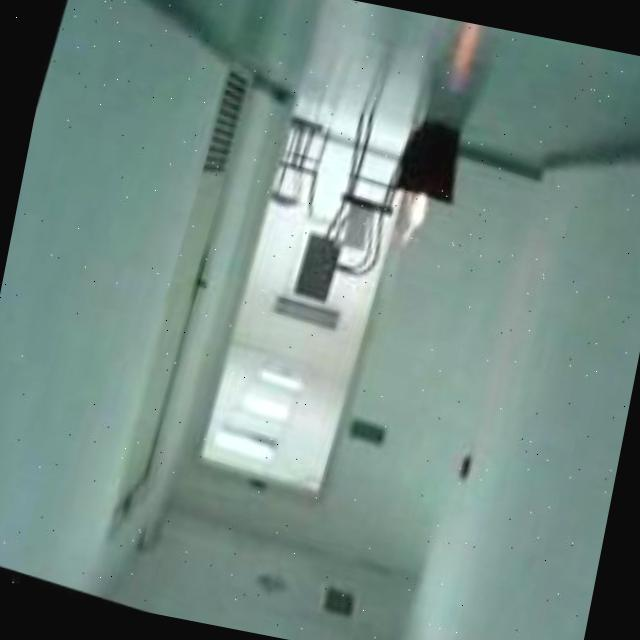fire: (389, 191, 438, 259)
